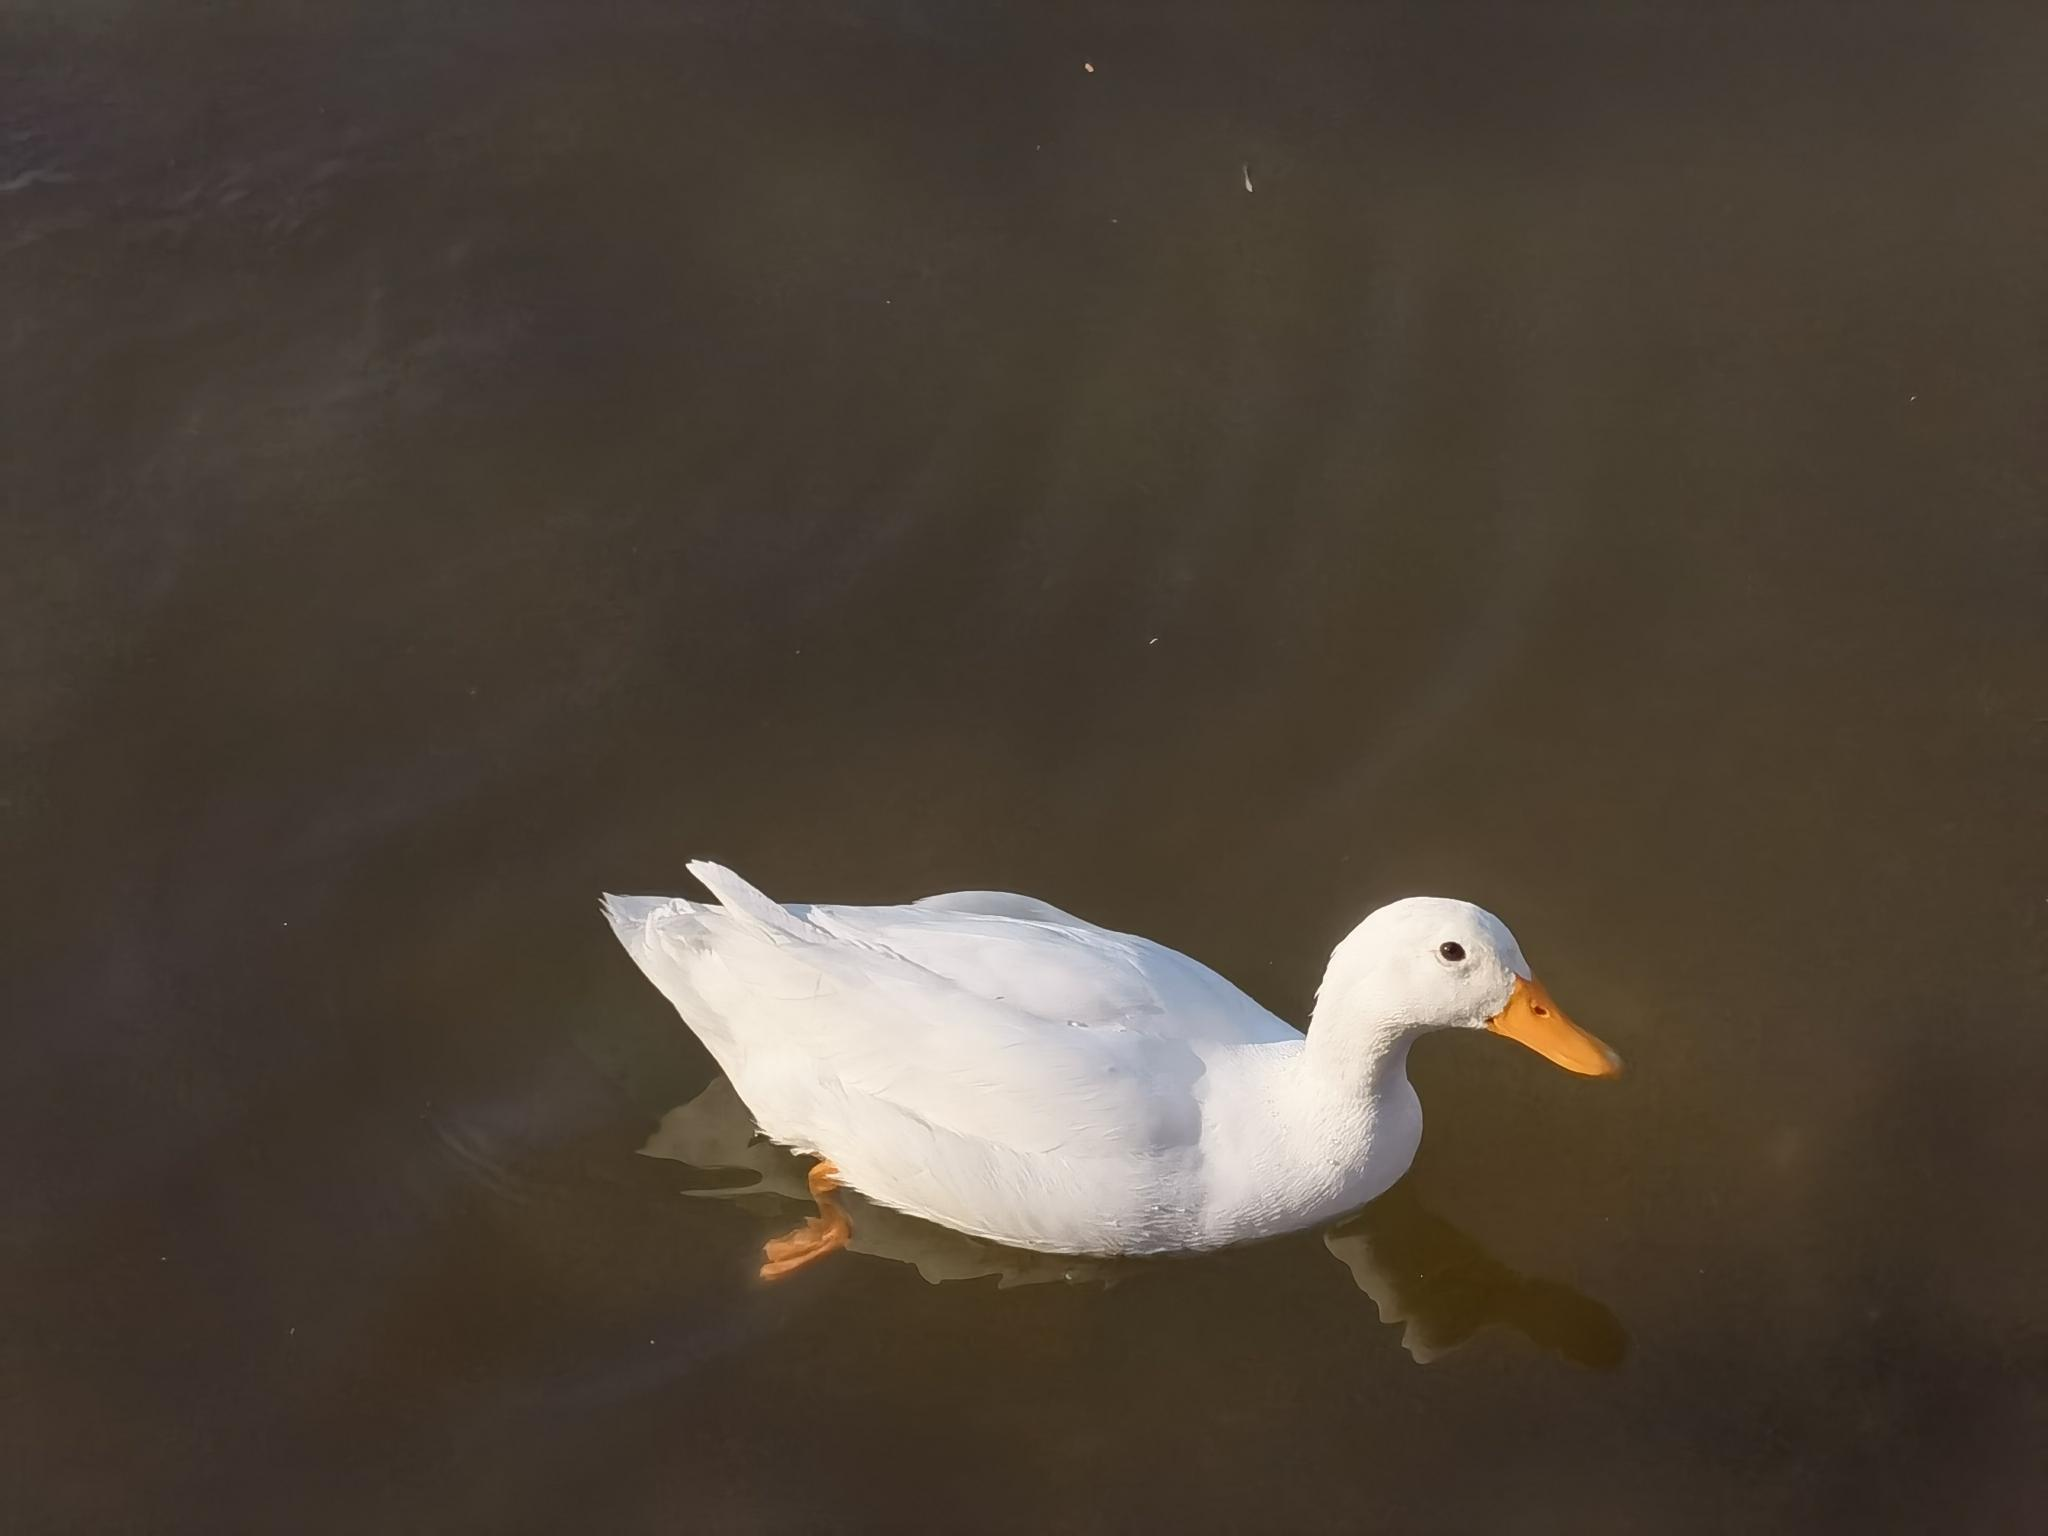duck: (607, 848, 1625, 1310)
